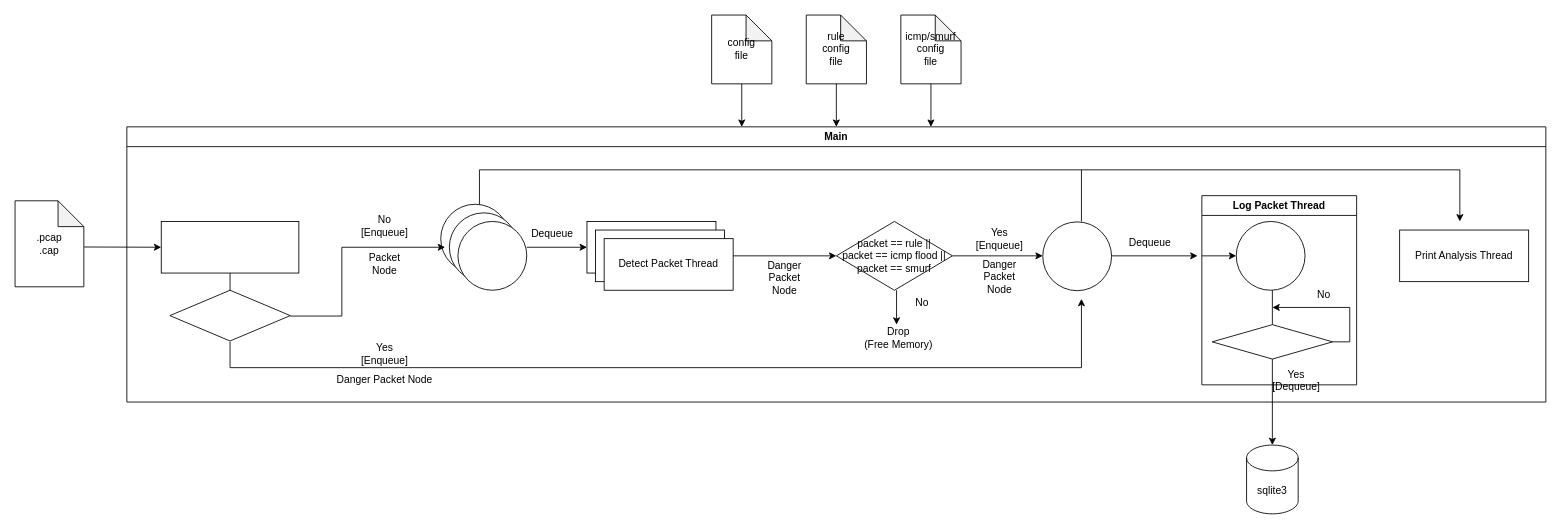
The diagram is 1561 pixels wide and 529 high, and some of its shapes have lost their labels. Here are the shapes that lost their labels. From the top down, the centre of each, then its label:
the point at 229,247: Read Packet Thread
the point at 492,255: Packet Queue
the point at 1077,256: Danger Packet Queue
the point at 1270,255: Log Queue
the point at 229,315: Packet Queue Full ?
the point at 1272,341: Log Queue 70% full || Elapsed Time >= 10
